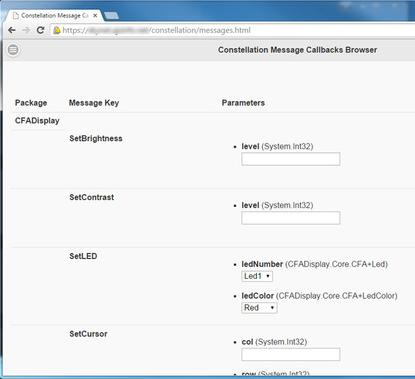field: (235, 346, 341, 362), (235, 151, 341, 166), (239, 210, 341, 225), (242, 302, 279, 314), (241, 270, 274, 282)
field_with_label: (241, 293, 397, 315), (239, 260, 388, 283), (232, 338, 343, 364), (237, 200, 342, 226), (233, 143, 343, 166)
